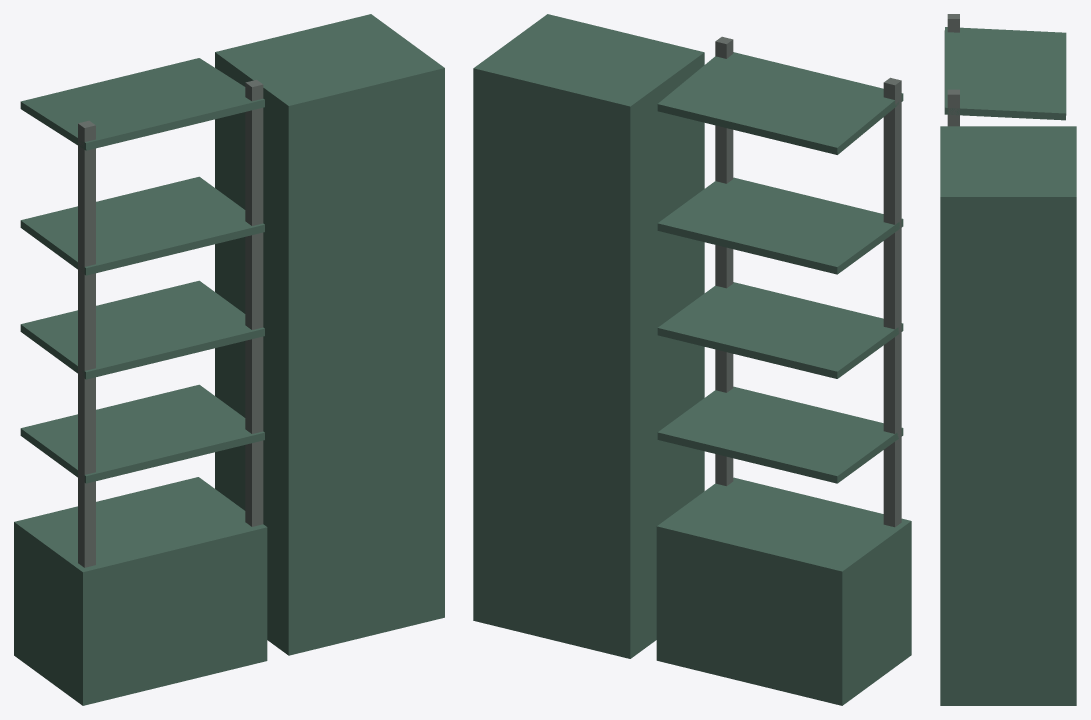
Rendered from estante_verde.glb.
The picture shows the model from 3 angles, left to right: view 1: azimuth 30°, elevation 25°; view 2: azimuth 150°, elevation 25°; view 3: azimuth 270°, elevation 25°; orthographic projection. The views are drawn at different scales.
Parts seen in each view (by area): view 1: Armario_Derecha, Base_Izquierda, Estante_2, Estante_3, Estante_1, Estante_Superior, Soporte_Posterior_Derecho, Soporte_Posterior_Izquierdo; view 2: Armario_Derecha, Base_Izquierda, Estante_Superior, Estante_3, Estante_2, Estante_1, Soporte_Posterior_Izquierdo, Soporte_Posterior_Derecho; view 3: Armario_Derecha, Estante_Superior, Soporte_Posterior_Derecho, Soporte_Posterior_Izquierdo.
Part boxes in pixels (left/top/right/bottom): Armario_Derecha: left=215, top=14, right=444, bottom=655; Base_Izquierda: left=14, top=477, right=267, bottom=705; Estante_2: left=20, top=280, right=264, bottom=379; Estante_3: left=20, top=176, right=264, bottom=275; Estante_1: left=20, top=384, right=264, bottom=483; Estante_Superior: left=20, top=58, right=264, bottom=150; Soporte_Posterior_Derecho: left=245, top=79, right=263, bottom=526; Soporte_Posterior_Izquierdo: left=78, top=120, right=95, bottom=567; Armario_Derecha: left=473, top=14, right=704, bottom=658; Base_Izquierda: left=656, top=477, right=911, bottom=705; Estante_Superior: left=657, top=52, right=903, bottom=154; Estante_3: left=657, top=177, right=903, bottom=274; Estante_2: left=657, top=282, right=903, bottom=378; Estante_1: left=657, top=386, right=903, bottom=483; Soporte_Posterior_Izquierdo: left=883, top=77, right=901, bottom=527; Soporte_Posterior_Derecho: left=715, top=36, right=733, bottom=486; Armario_Derecha: left=940, top=126, right=1076, bottom=705; Estante_Superior: left=944, top=27, right=1066, bottom=120; Soporte_Posterior_Derecho: left=947, top=89, right=959, bottom=126; Soporte_Posterior_Izquierdo: left=947, top=14, right=959, bottom=32.
Size of the model in its own units: 1.27 by 1.93 by 0.45.
